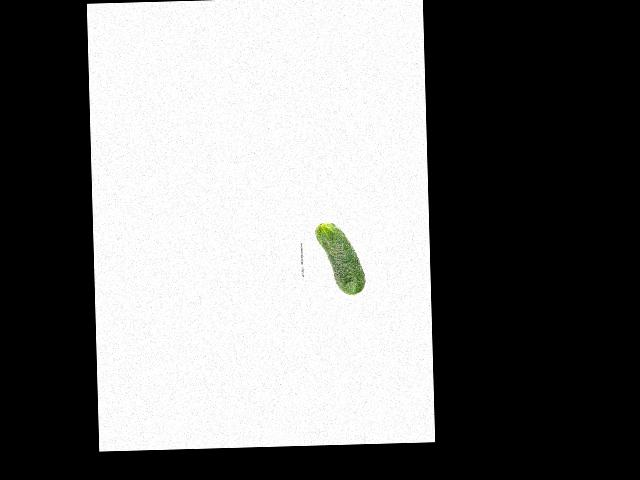cucumber: (314, 222, 365, 296)
